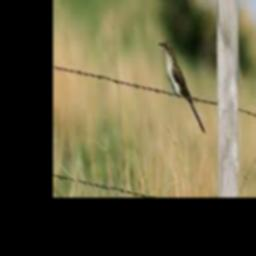Cuckoo: (157, 40, 205, 134)
